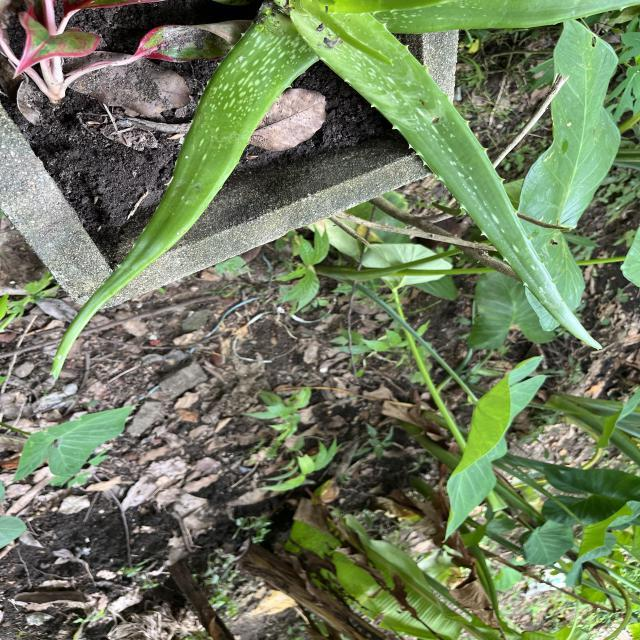Aloe vera: (284, 0, 608, 354), (42, 2, 316, 390)
